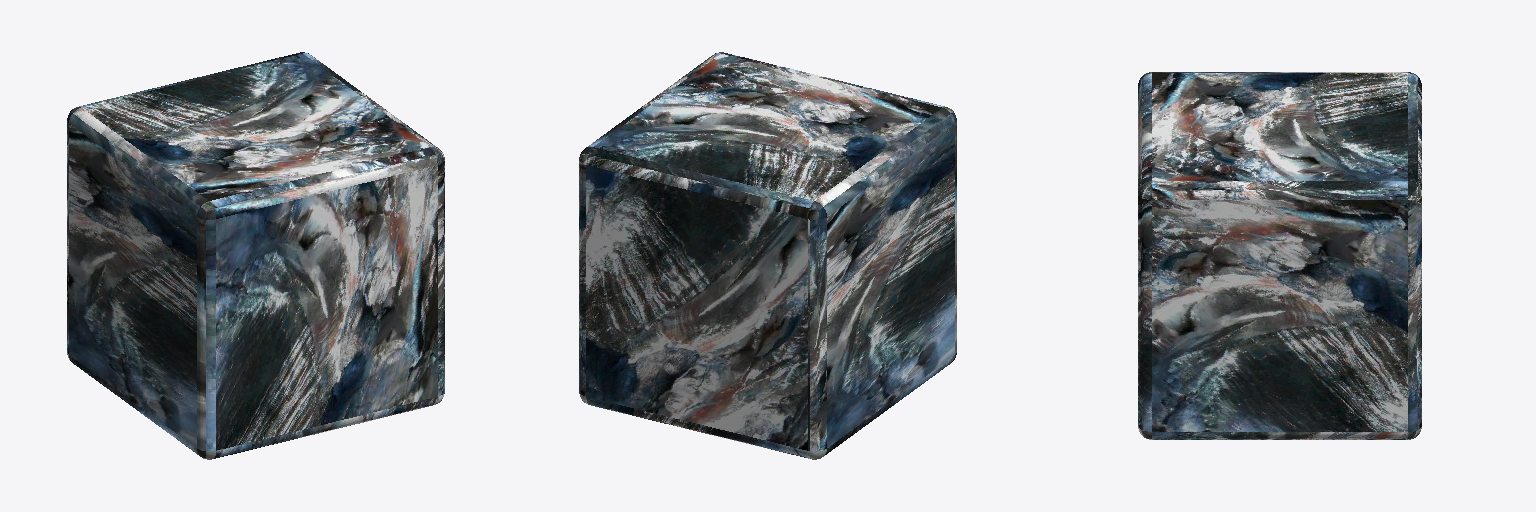
3 renders of one model, left to right at view 1: azimuth 30°, elevation 25°; view 2: azimuth 150°, elevation 25°; view 3: azimuth 270°, elevation 25°, orthographic.
Parts seen in each view (by area): view 1: Cube; view 2: Cube; view 3: Cube.
Part boxes in pixels (x1,y1,x2,y2): Cube: (67,52,444,459); Cube: (579,52,956,459); Cube: (1138,72,1421,439).
Bounding box in the file's own units: 2 × 2 × 2.
Materials: 1 (1 with a texture image).